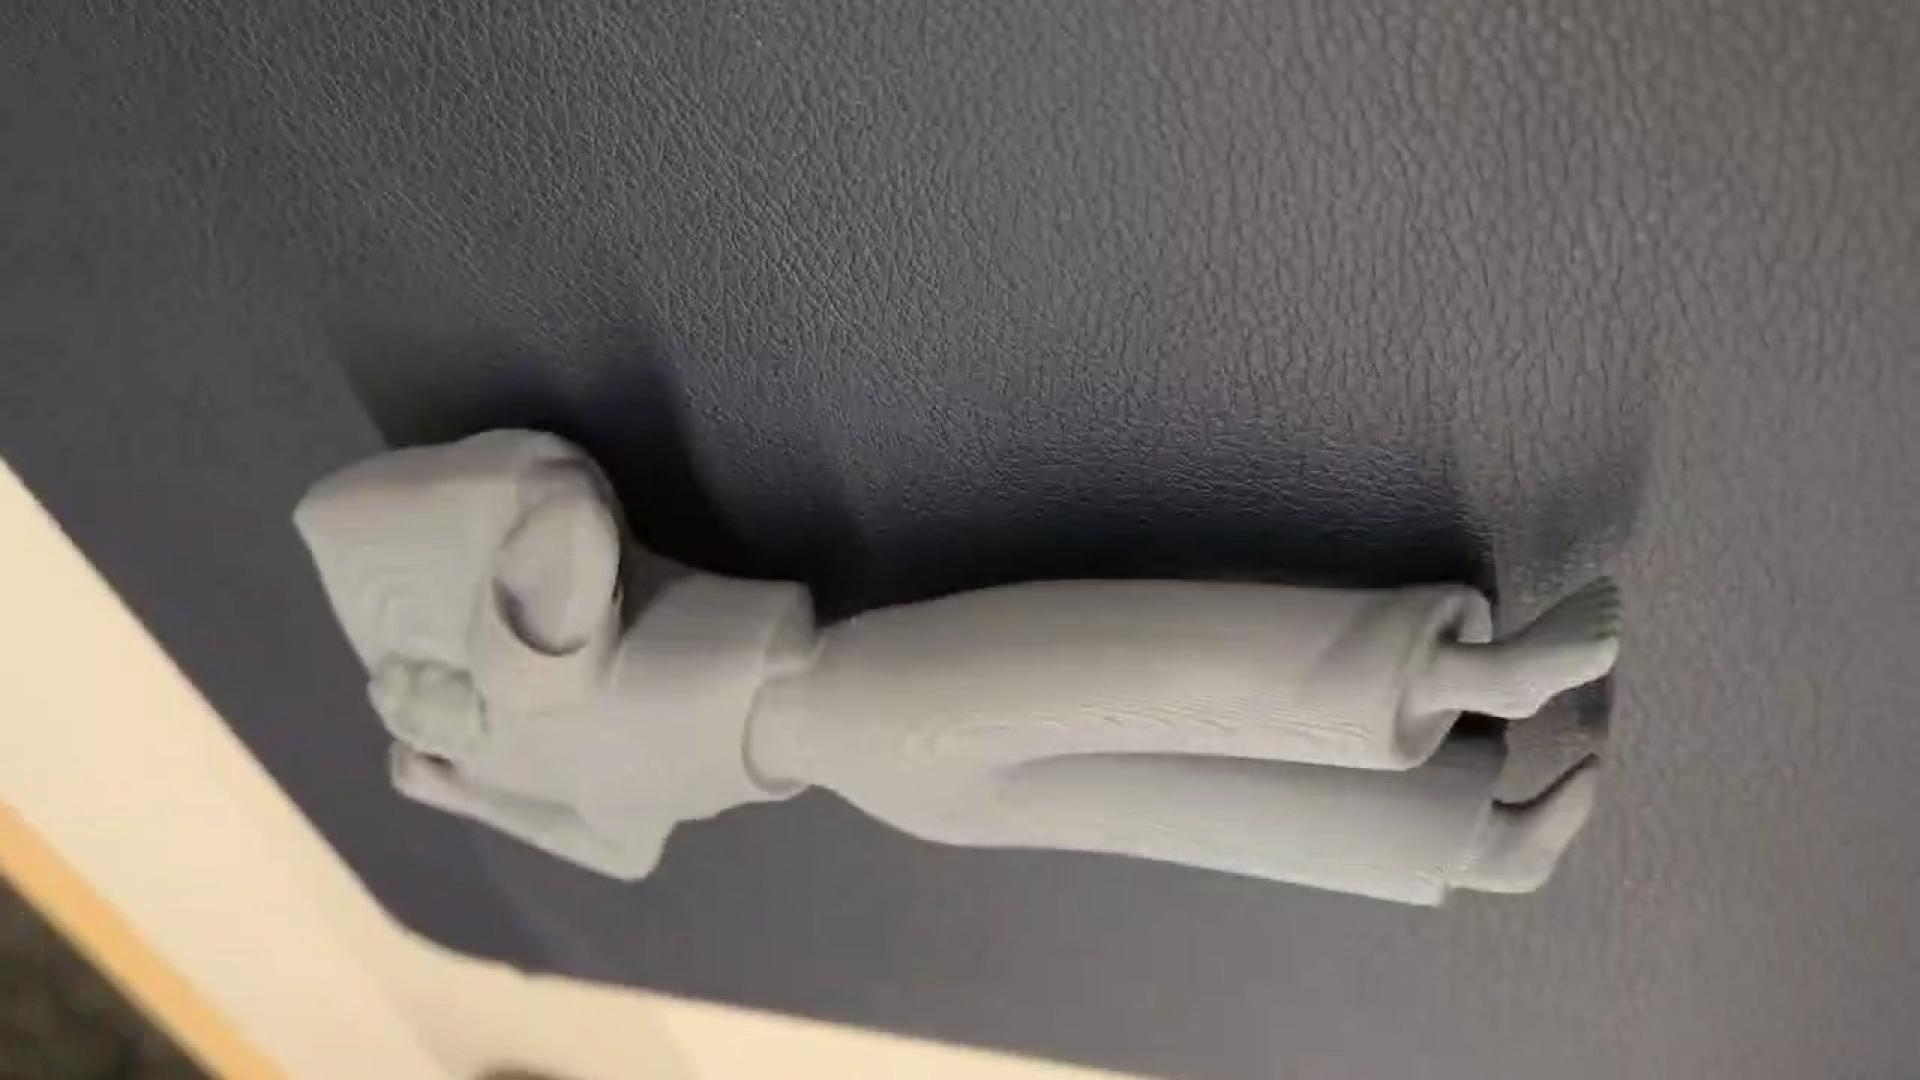Bad-style: (291, 423, 1654, 916)
